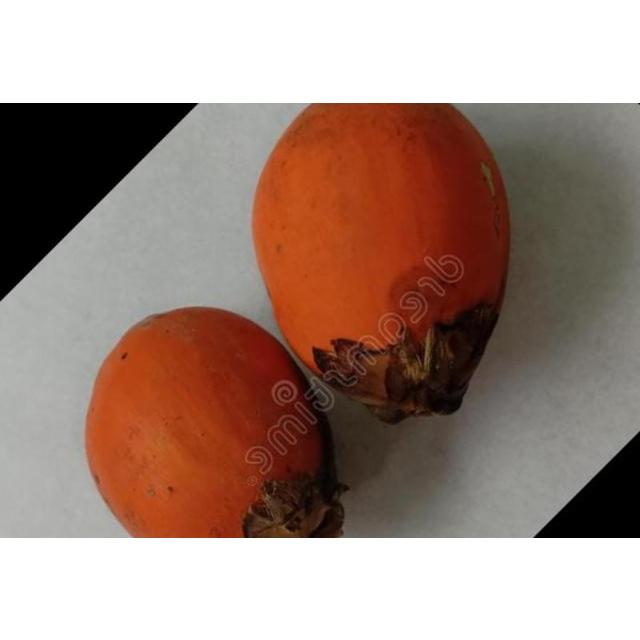good: (253, 102, 510, 422), (85, 306, 345, 536)
